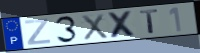1: (169, 7, 183, 33)
3: (53, 15, 79, 44)
T: (139, 9, 160, 35)
X: (106, 10, 139, 39), (80, 13, 110, 42)
Z: (23, 18, 52, 46)
